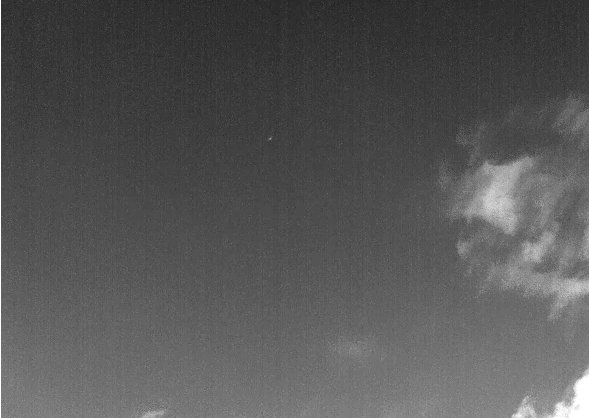dim target: (267, 136, 273, 141)
